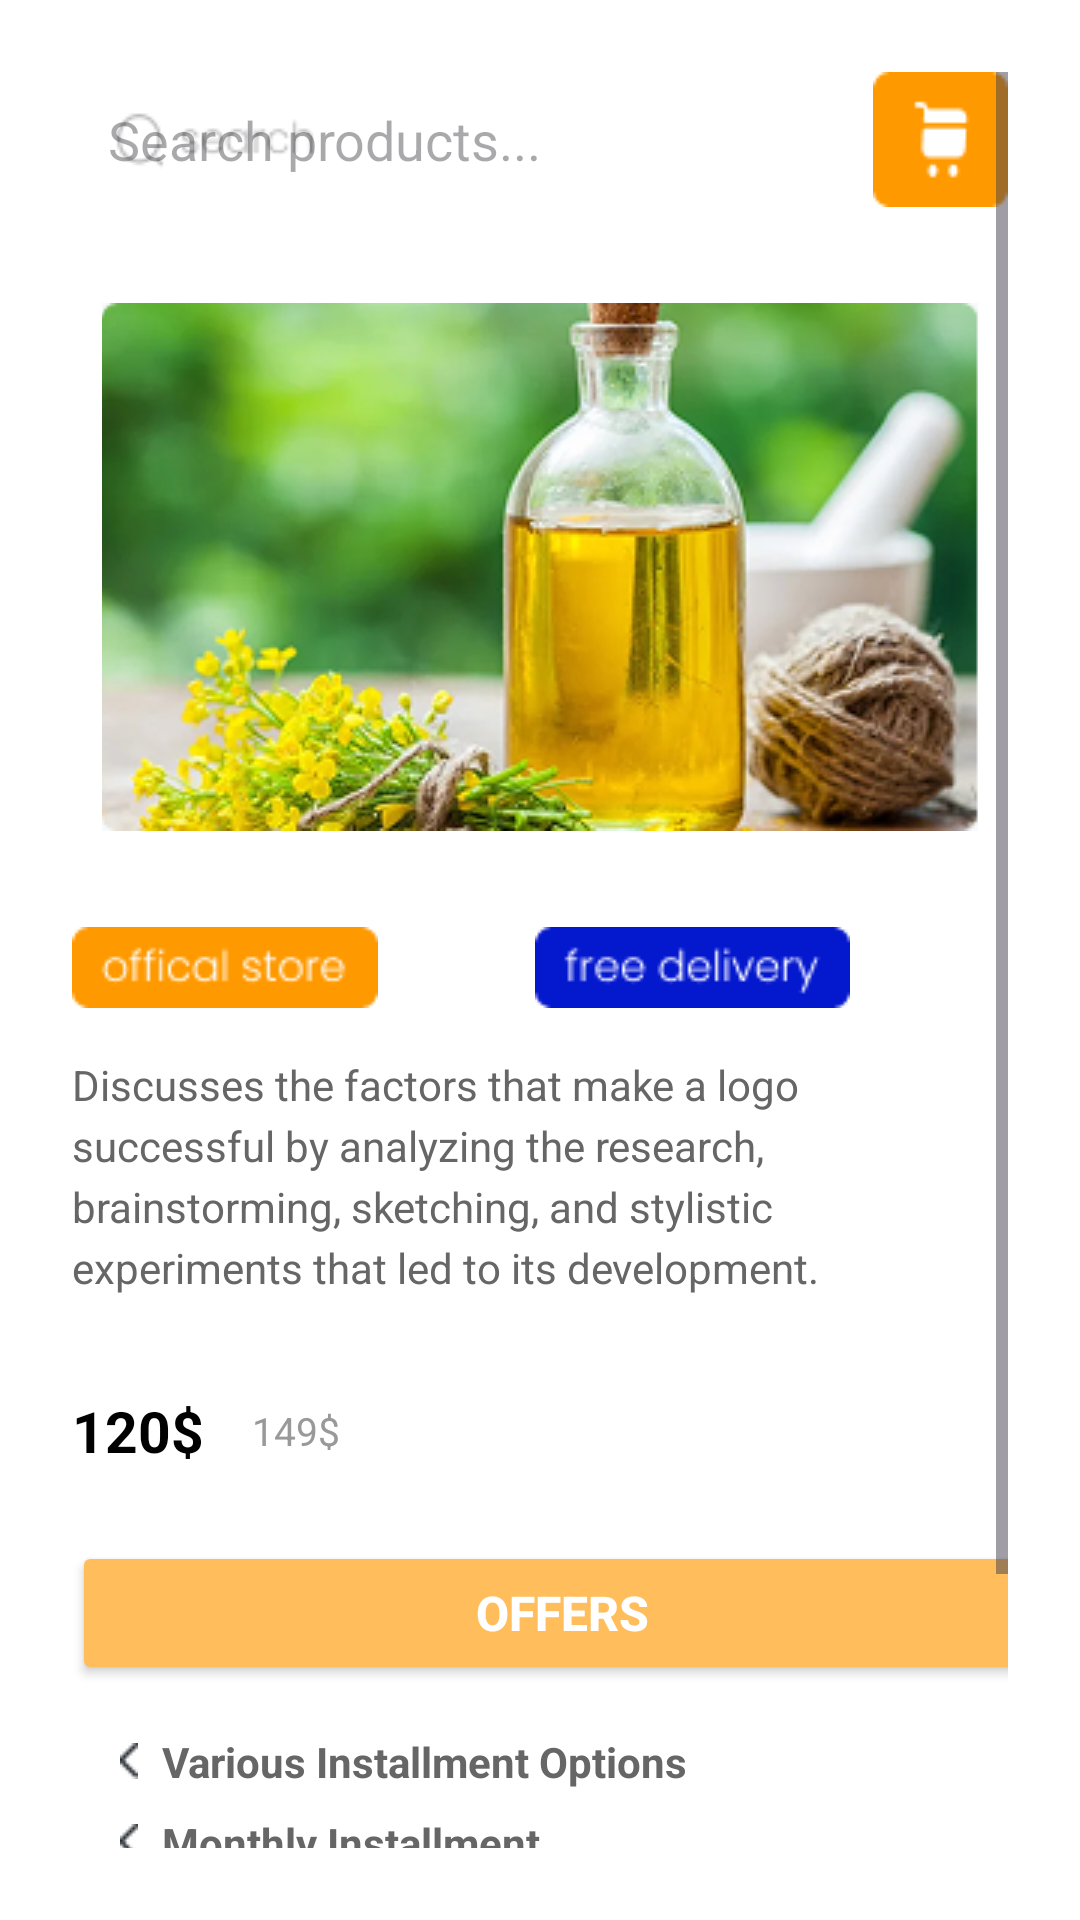

Screen size 1080 x 1920. Icon name, then its center in pixels as (x,y):
shopping cart: (940,139)
